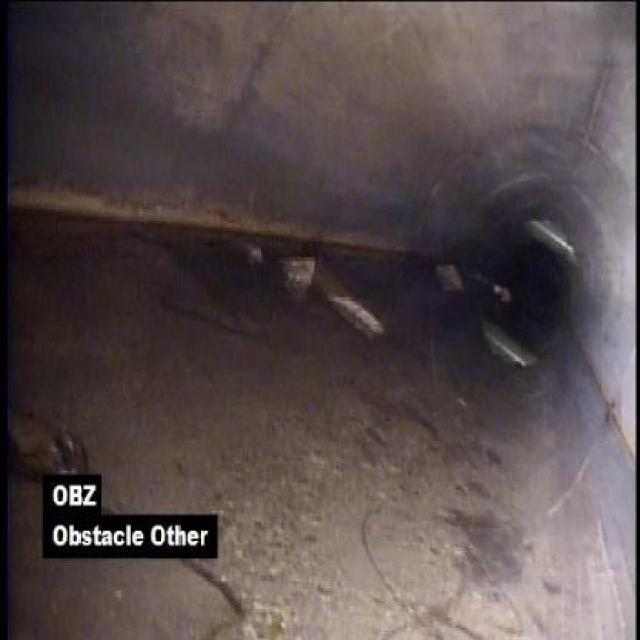Debris: (277, 252, 381, 345)
